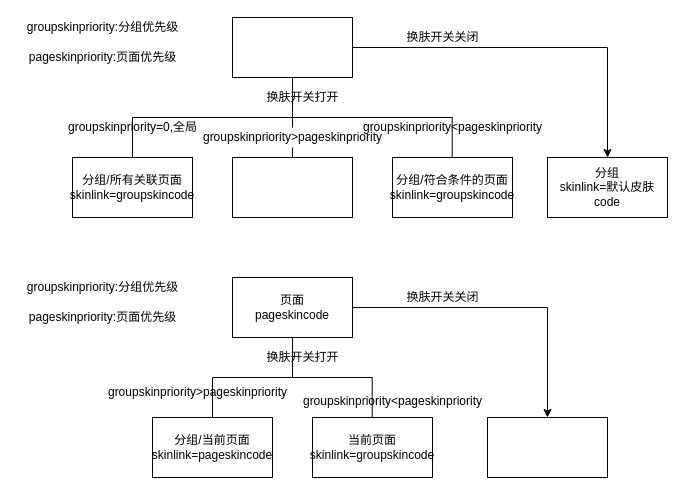
This 685x495 diagram has some shape labels left out. Here are the shapes that lost their labels. From the top down, the box of each, then its label:
(232, 16, 352, 78): 分组 groupskincode
(232, 156, 352, 218): 分组 skinlink=groupskincode
(486, 416, 608, 478): 页面 skinlink=默认皮肤code
